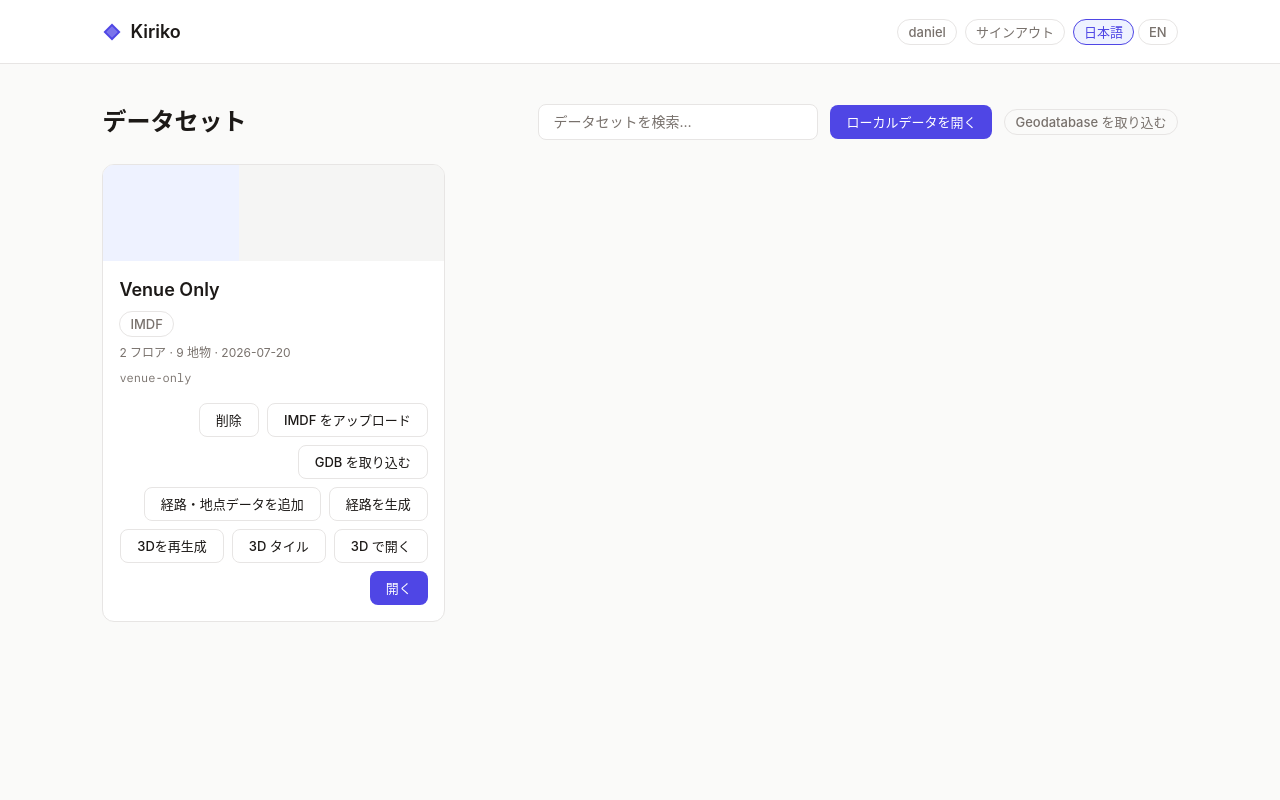
Scenario: GalleryPage generate routing › shows an indeterminate routing progress panel while the server is estimating
The image size is (1280, 800).
Expected: the heading "Venue Only" is shown, [119,279,220,300]
Click the button "EN" at (1158, 32), box [1138,18,1178,44]
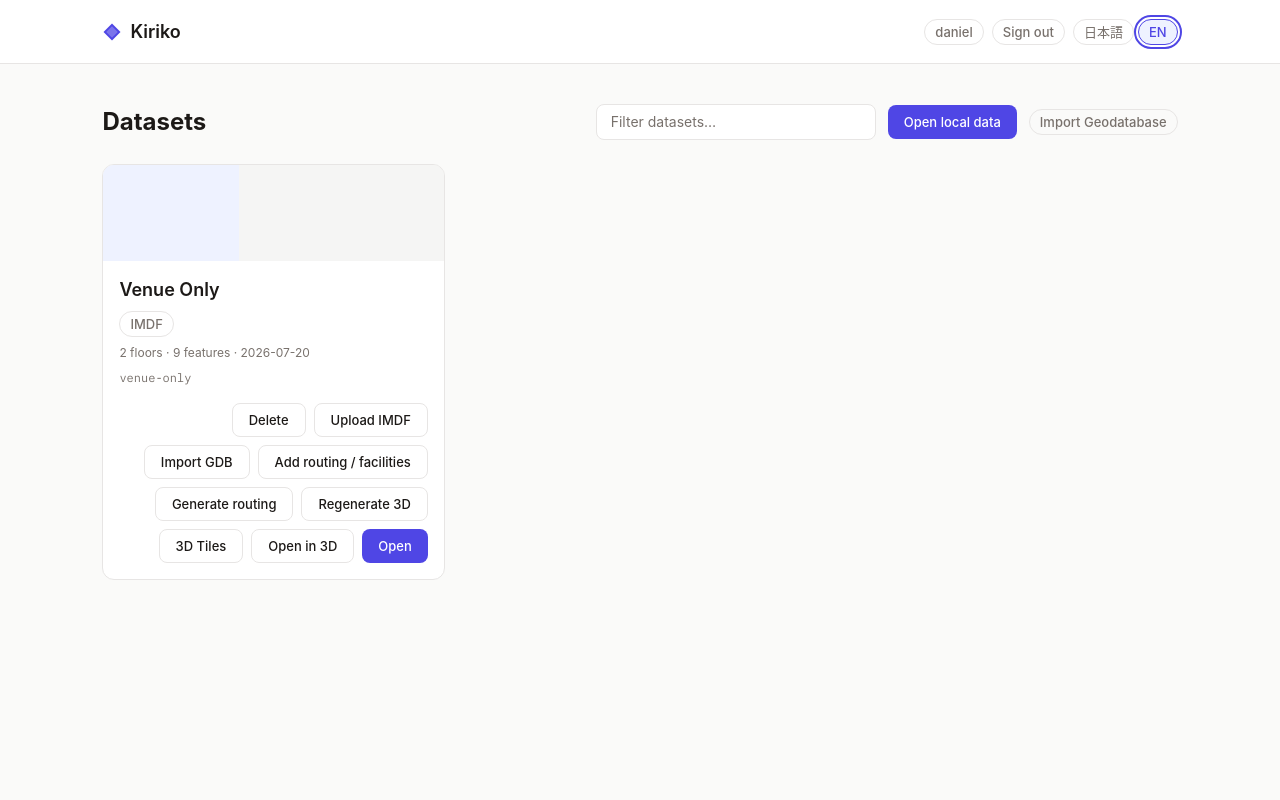
Click the button "Generate routing" at (224, 504), box [155,487,294,521]
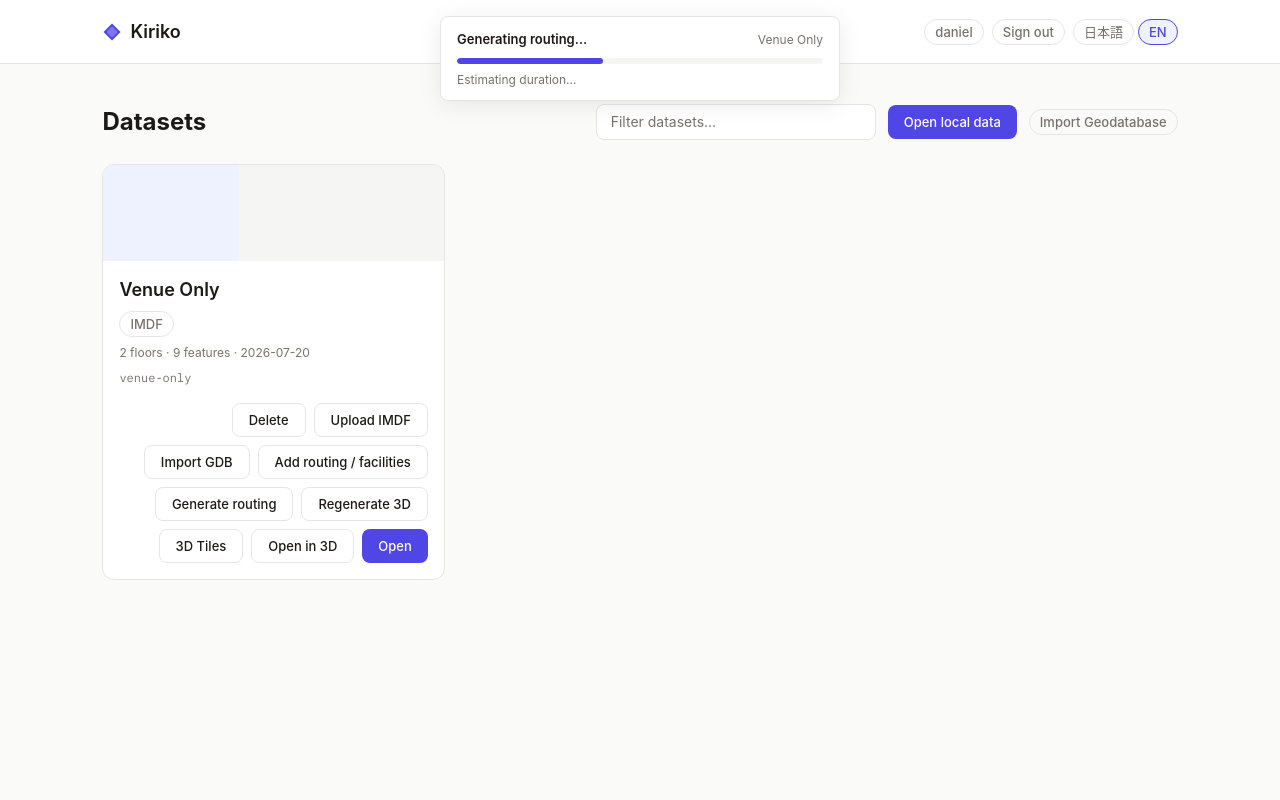
Result: the message shows "Venue Only" at [758,32,823,47]
Result: the message shows "Generating routing" at [457,31,587,47]
